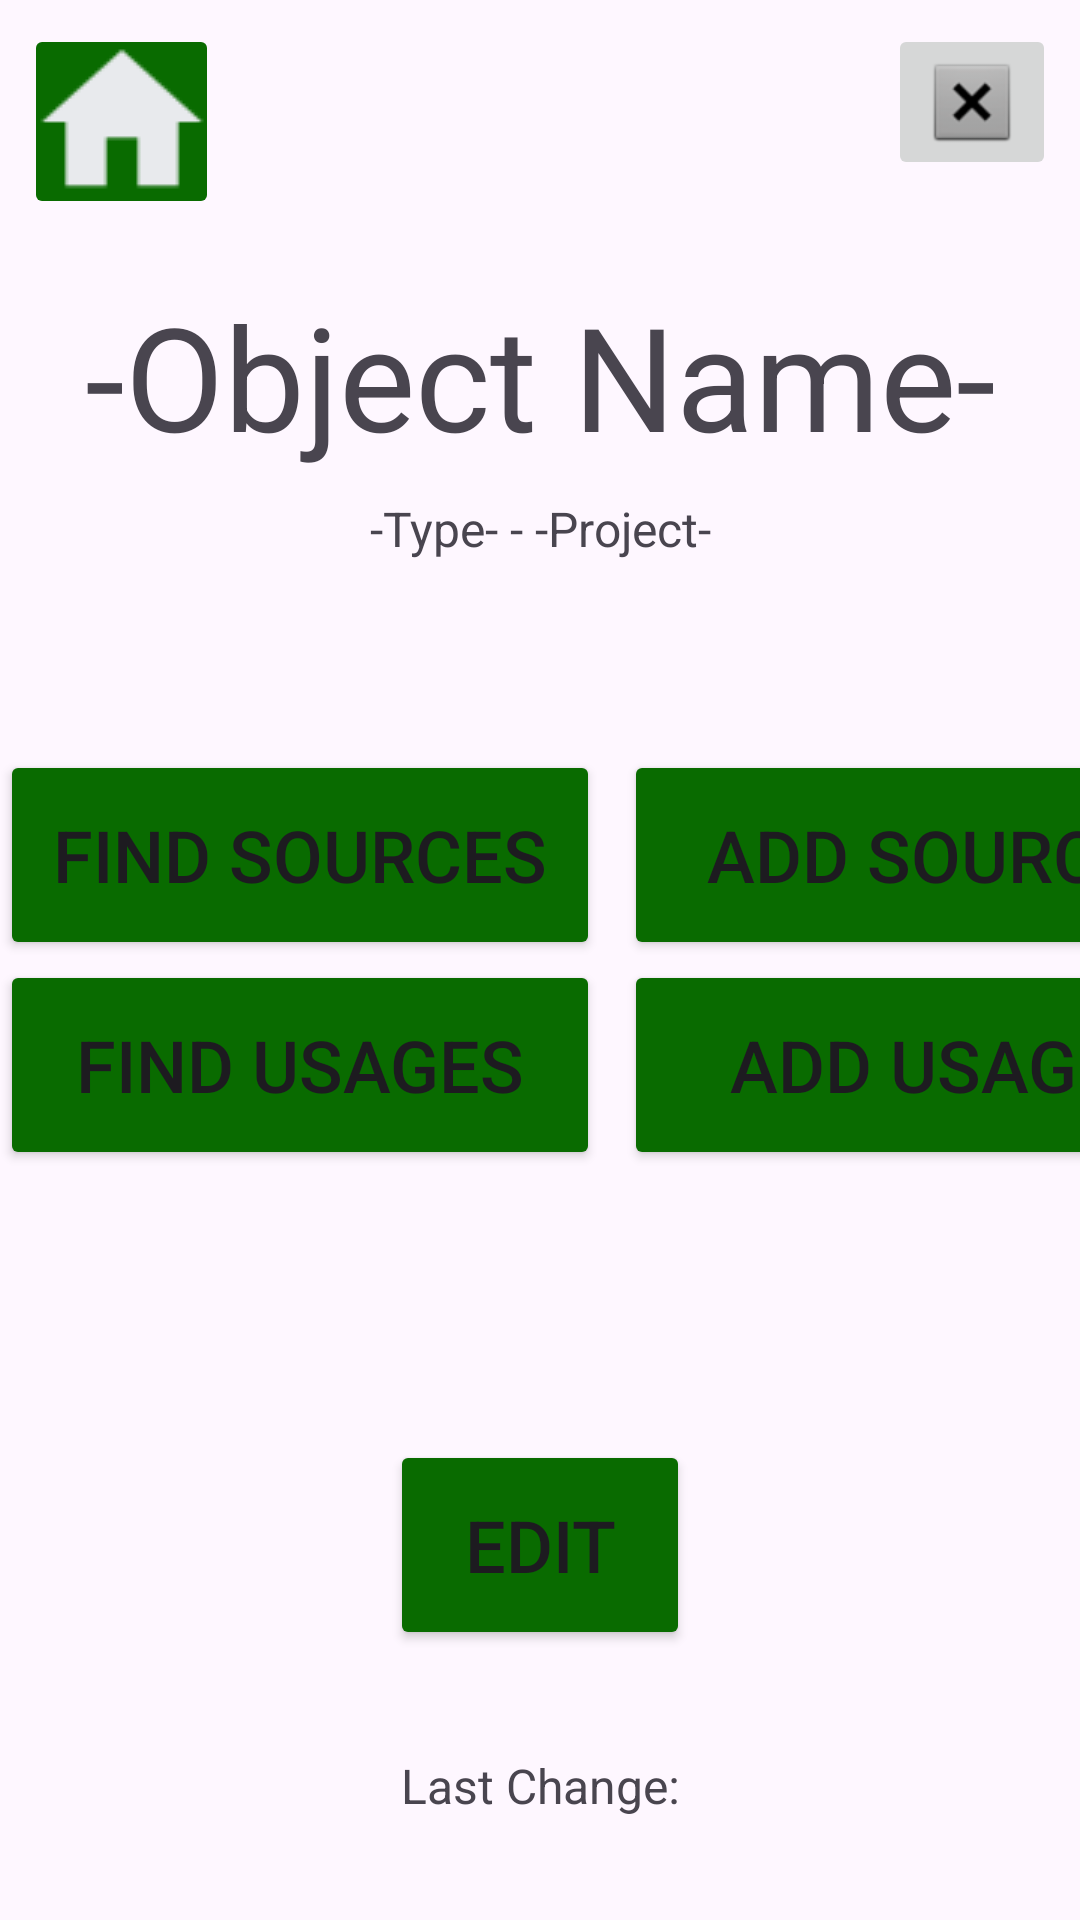

Where icons sit on this 1080px x 1920px app screen, as (x1, y1, x2, y2):
homebtn: (36, 42, 207, 201)
